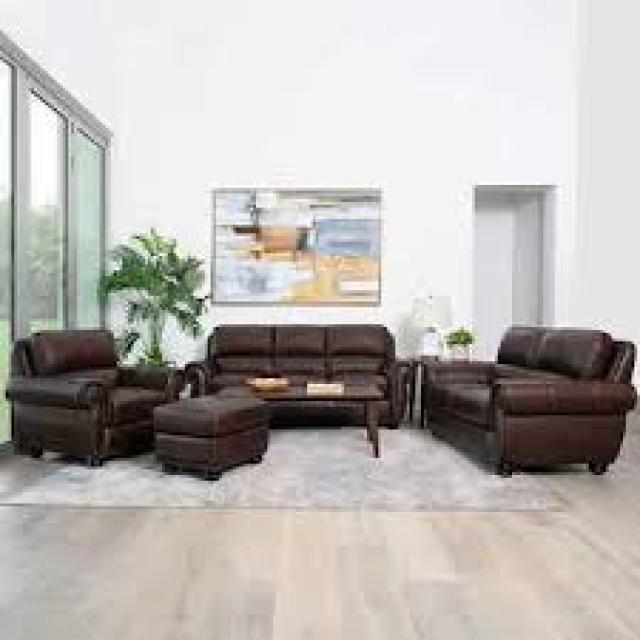Chair: (13, 322, 176, 468)
Sofa: (412, 314, 632, 488), (197, 308, 418, 433)
Table: (219, 377, 399, 455)
